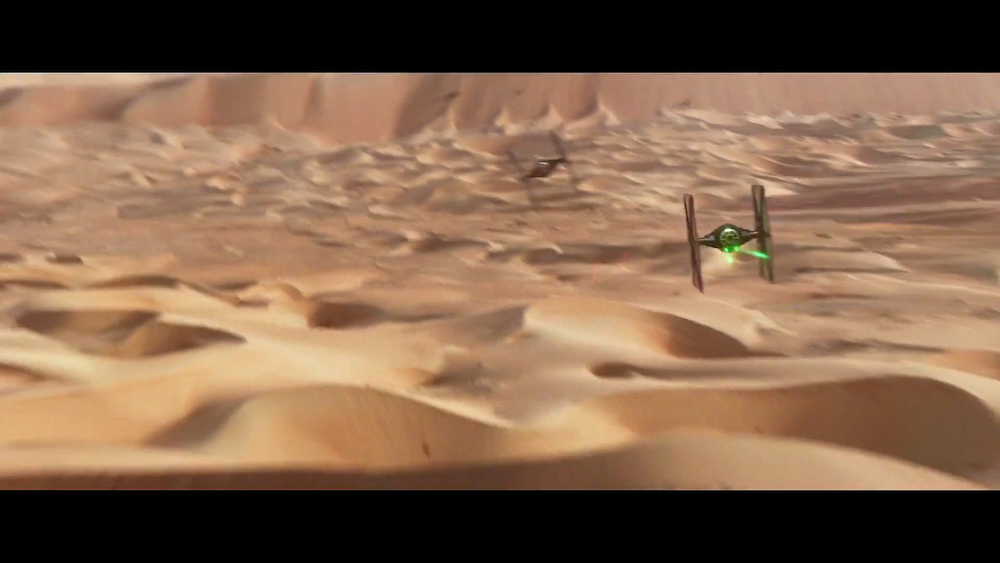Tie Fighter: (680, 185, 779, 296), (504, 130, 582, 208)
